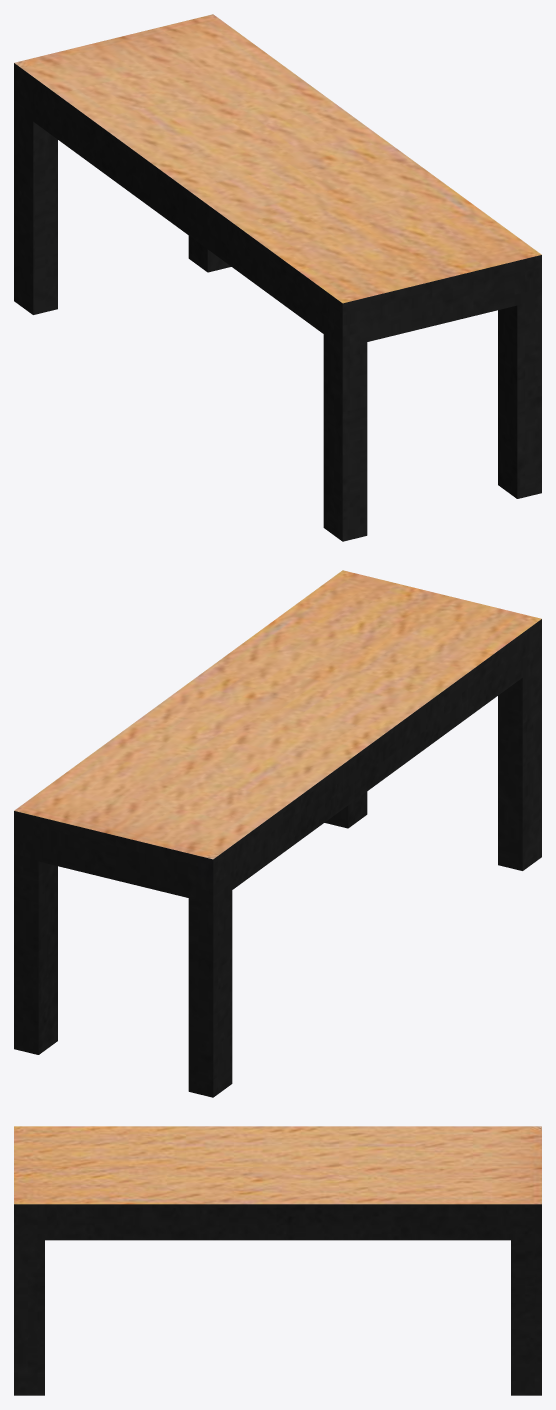
The model's file is workingTable.glb.
3 renders of one model, top to bottom at view 1: azimuth 30°, elevation 25°; view 2: azimuth 150°, elevation 25°; view 3: azimuth 270°, elevation 25°, orthographic. The views are drawn at different scales.
Visible parts, largest first — view 1: Asset3DLoader.sceneRoot; view 2: Asset3DLoader.sceneRoot; view 3: Asset3DLoader.sceneRoot.
Boxes of the visible parts, x1,y1,x2,y2 form: Asset3DLoader.sceneRoot: (14, 14, 541, 541); Asset3DLoader.sceneRoot: (14, 570, 541, 1097); Asset3DLoader.sceneRoot: (14, 1126, 541, 1395).
Size of the model in its own units: 700 by 800 by 2000.
Materials: 1 (1 with a texture image).
